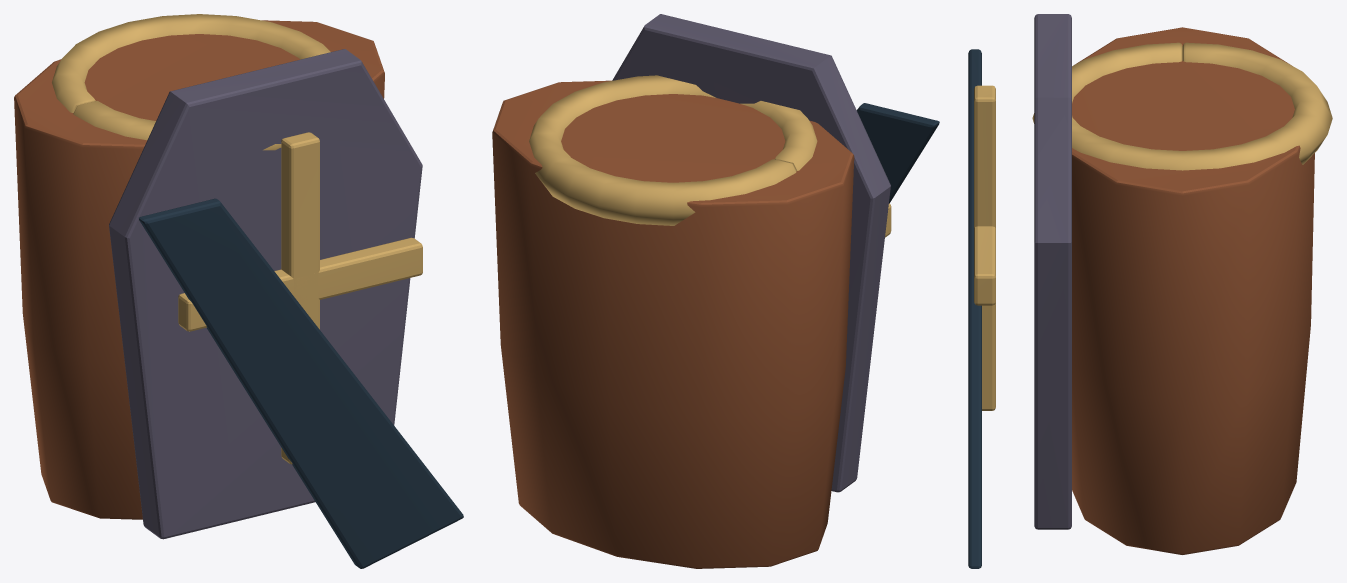
Rendered from item_054.glb.
3 renders of one model, left to right at view 1: azimuth 30°, elevation 25°; view 2: azimuth 150°, elevation 25°; view 3: azimuth 270°, elevation 25°, orthographic. The views are drawn at different scales.
Parts seen in each view (by area): view 1: Item_054_tomb_oathplate; view 2: Item_054_tomb_oathplate; view 3: Item_054_tomb_oathplate.
Part boxes in pixels (bbox=[...]): Item_054_tomb_oathplate: bbox=[14, 14, 463, 568]; Item_054_tomb_oathplate: bbox=[492, 14, 939, 568]; Item_054_tomb_oathplate: bbox=[968, 14, 1332, 568].
Bounding box in the file's own units: 0.3997 × 0.5192 × 0.369.
